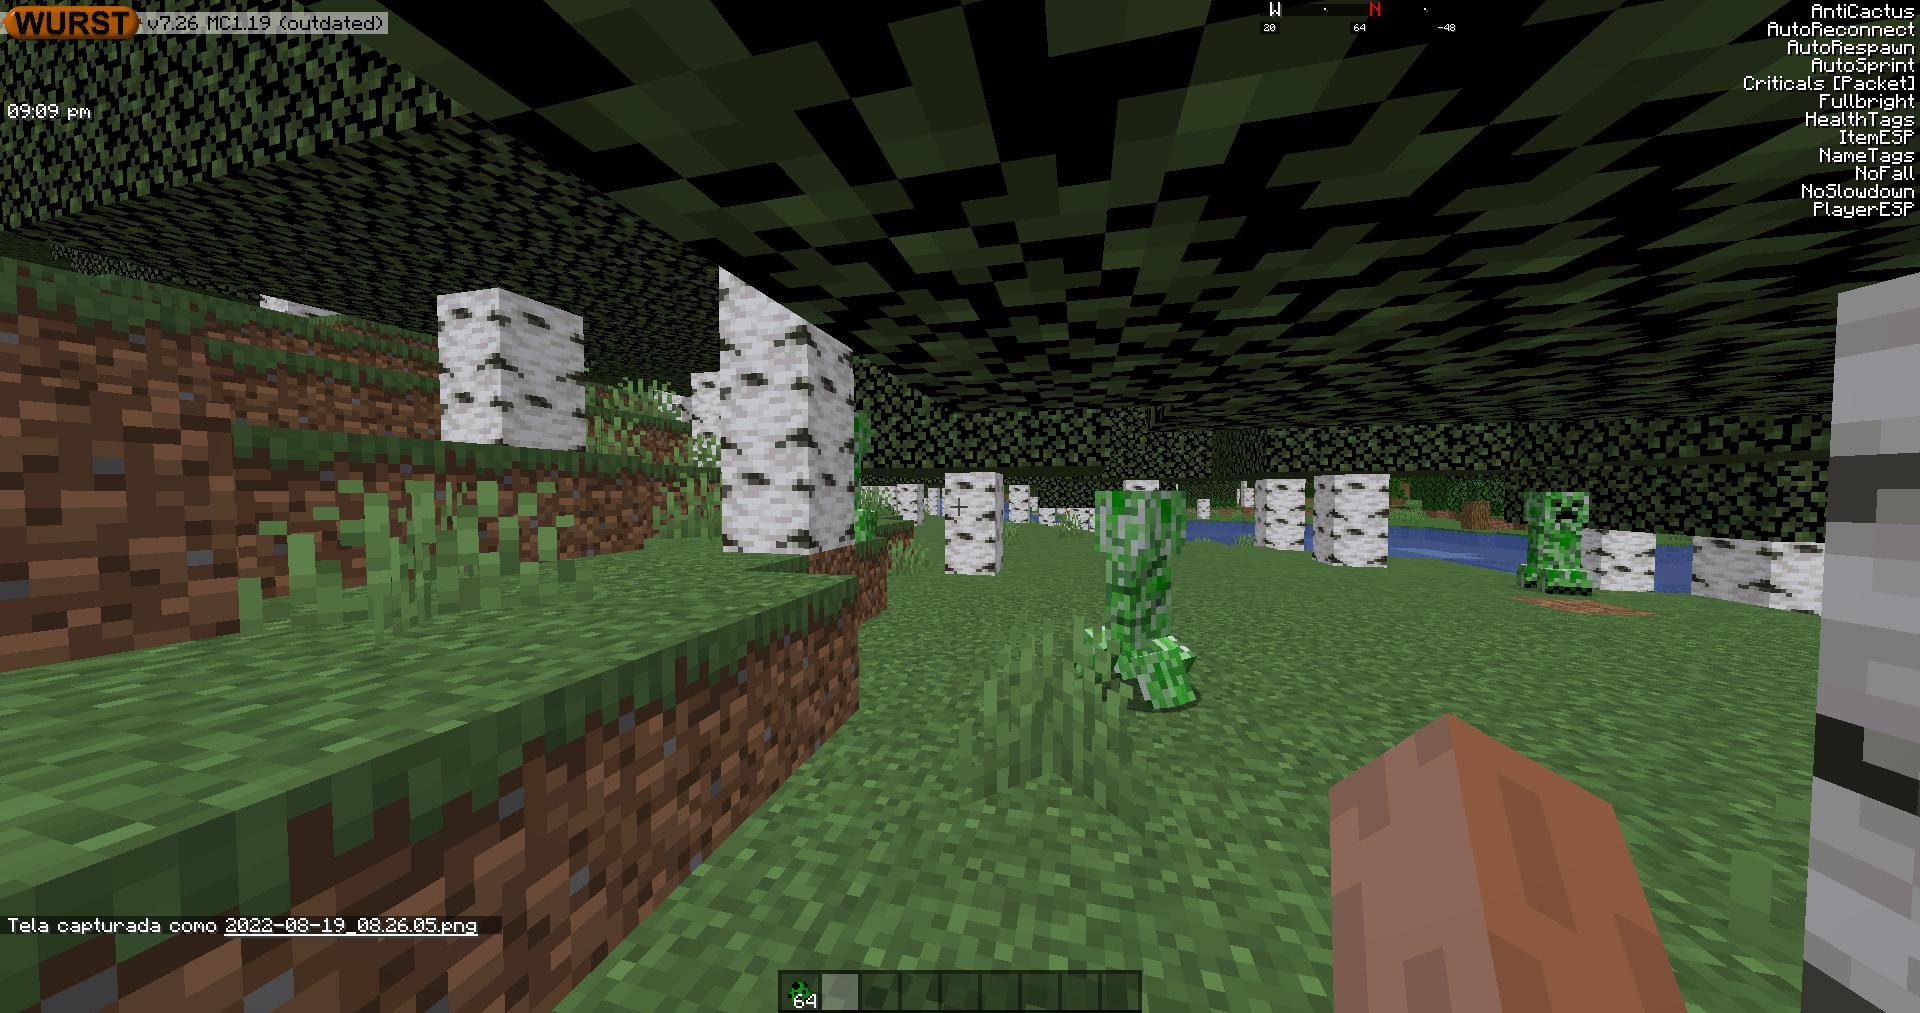creeper: (1084, 482, 1194, 710), (1517, 490, 1597, 602)
